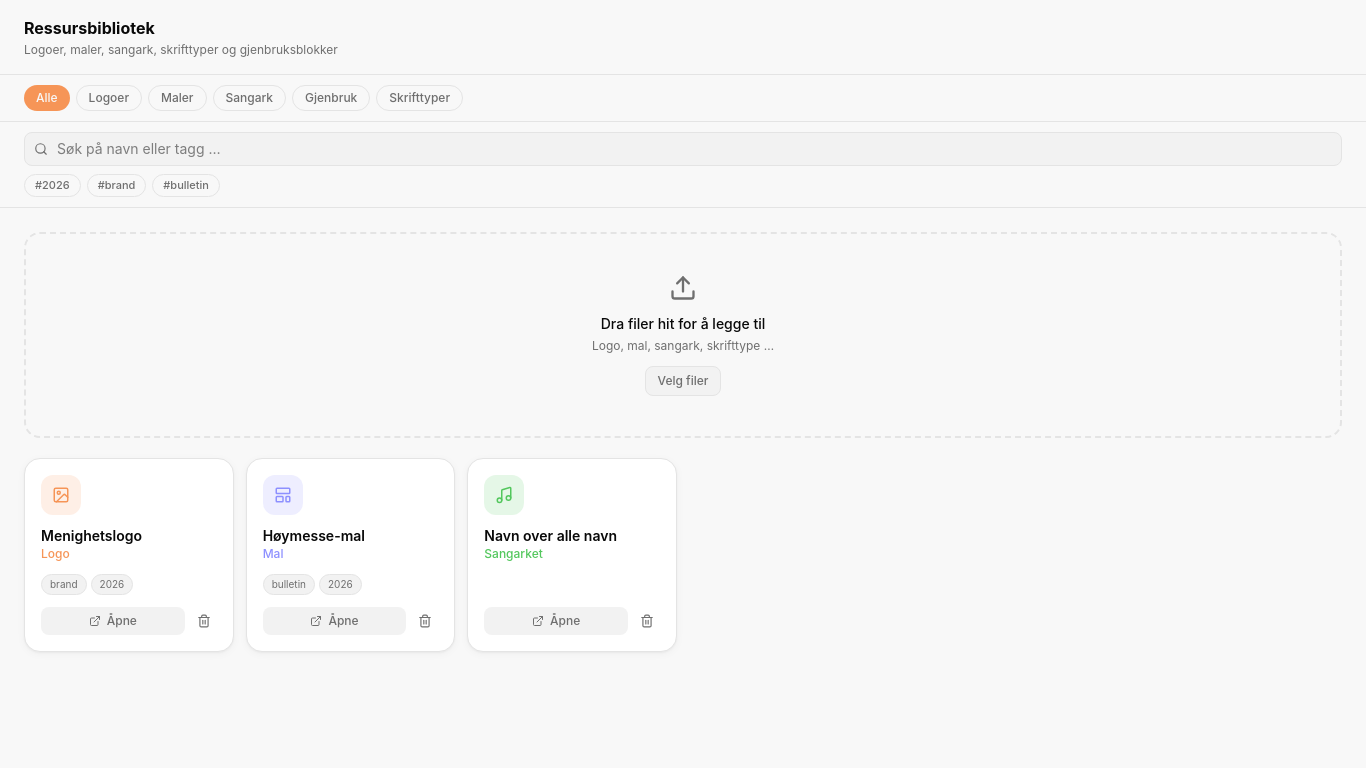
AssetsPanel › filters client-side via the search box (name + tags)
Expected: the text "Menighetslogo" is shown, [41,526,142,544]
Type "navn" into the search field named "Søk i ressurser" at (683, 149), box [24,132,1342,166]
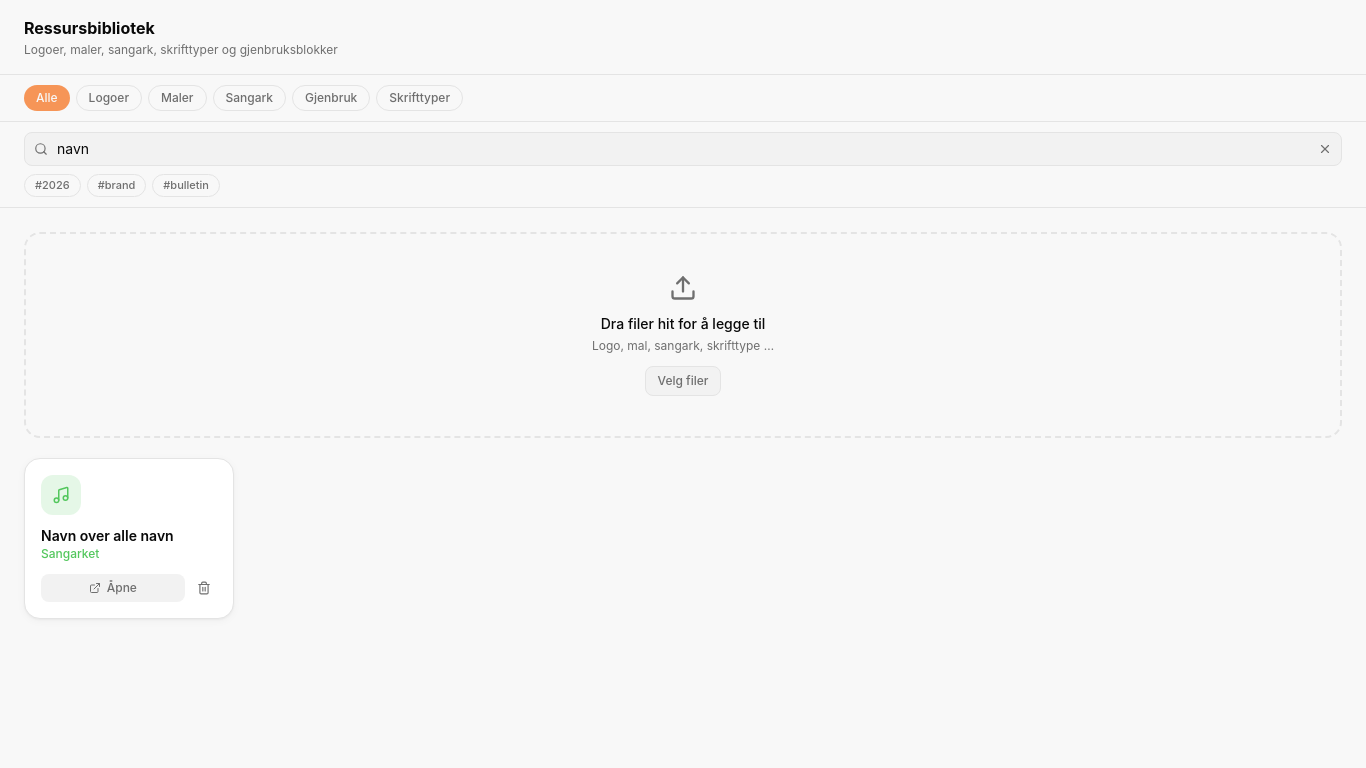
Expected: the text "Navn over alle navn" is shown, [41,526,174,544]
Expected: the text "Menighetslogo" is gone
Expected: the text "Høymesse-mal" is gone
